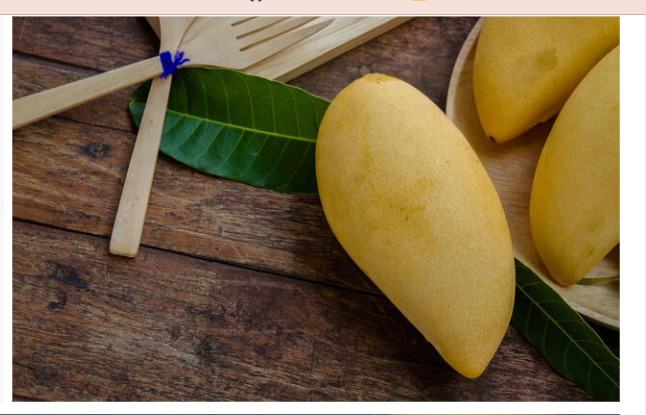mango: (318, 73, 517, 380)
